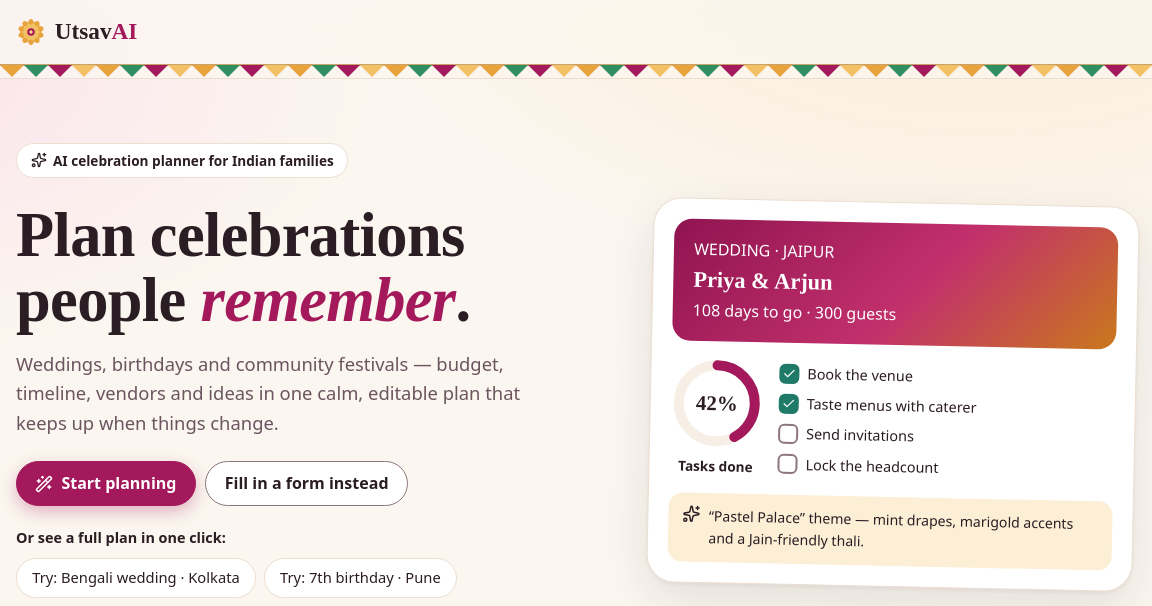
Test: venues › uses a link copied in Google Maps, and explains anything that is not a link
Click the button "Try: Bengali wedding · Kolkata": (136, 578) x1=16 y1=558 x2=256 y2=598
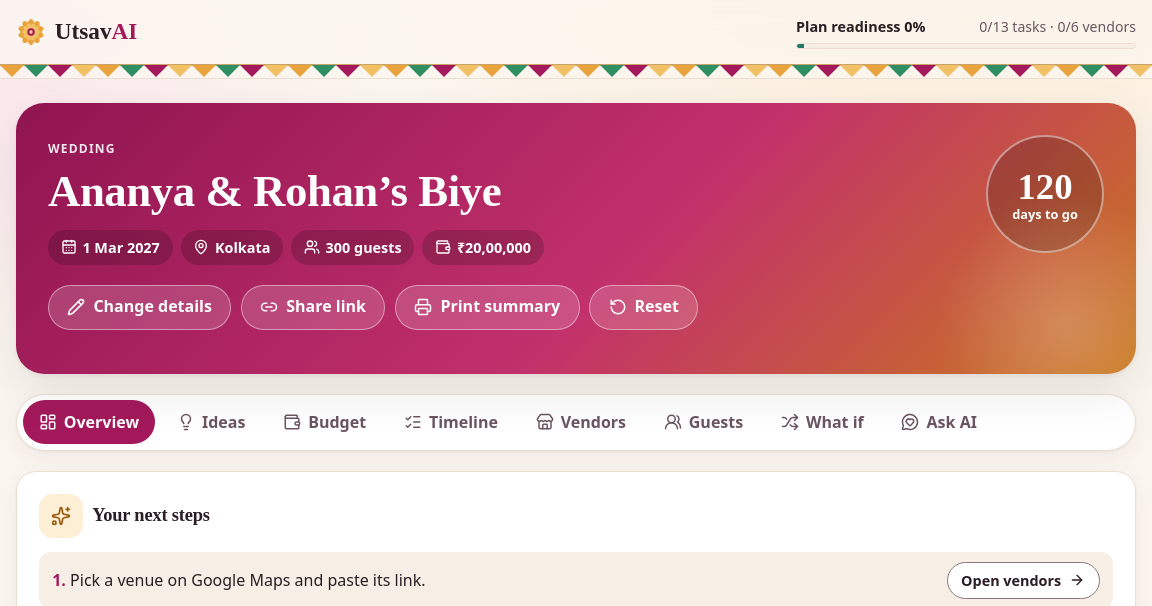
Expected: the heading "Ananya & Rohan’s Biye" is shown, x1=48 y1=165 x2=544 y2=218
Click the tab "Vendors": (581, 422) x1=520 y1=400 x2=642 y2=444
(page scrolled)
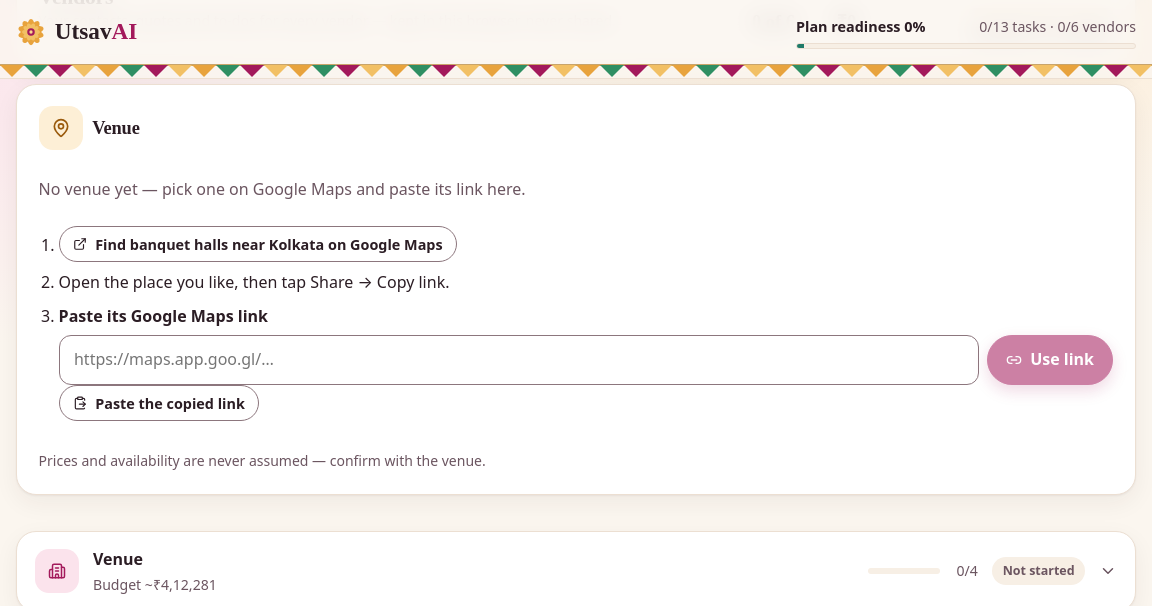
In the field labelled "Paste its Google Maps link": (519, 360) x1=59 y1=335 x2=979 y2=385, type "not a link at all"
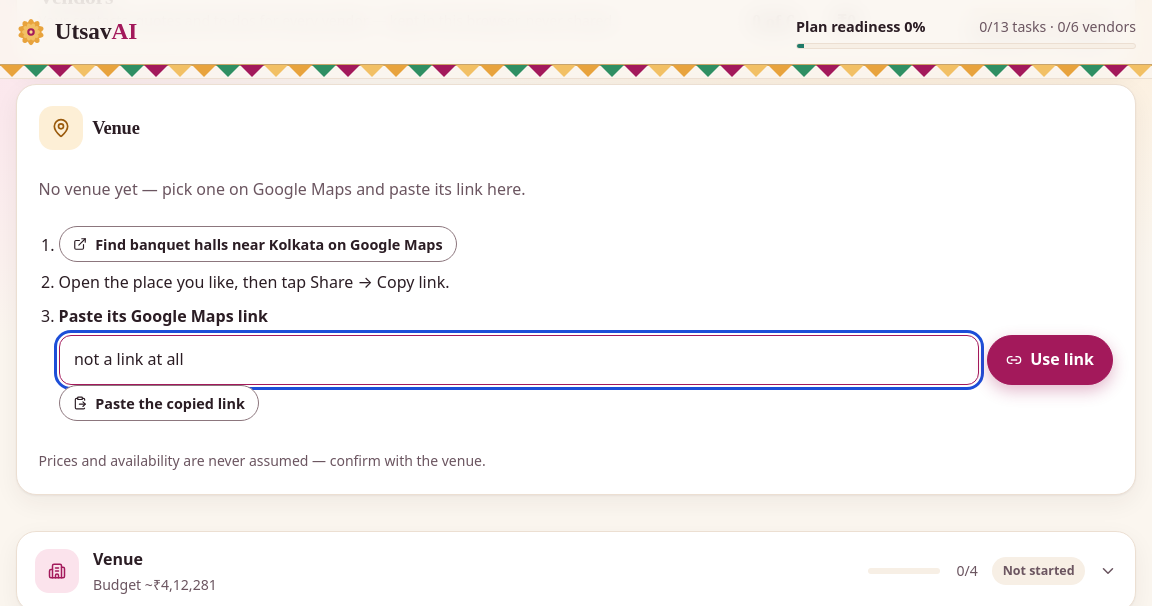
Click the button "Use link": (1050, 360) x1=987 y1=335 x2=1113 y2=385
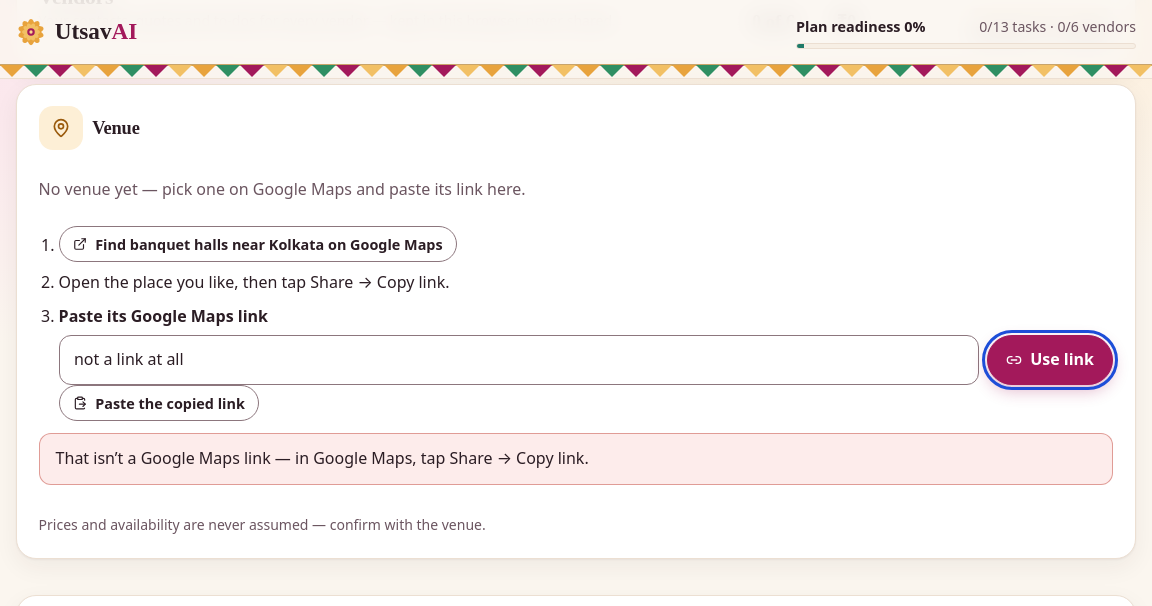
Expected: the text "isn’t a Google Maps link" is shown, x1=56 y1=447 x2=589 y2=469
Click the button "Paste the copied link": (159, 403) x1=59 y1=385 x2=259 y2=421
(page scrolled)
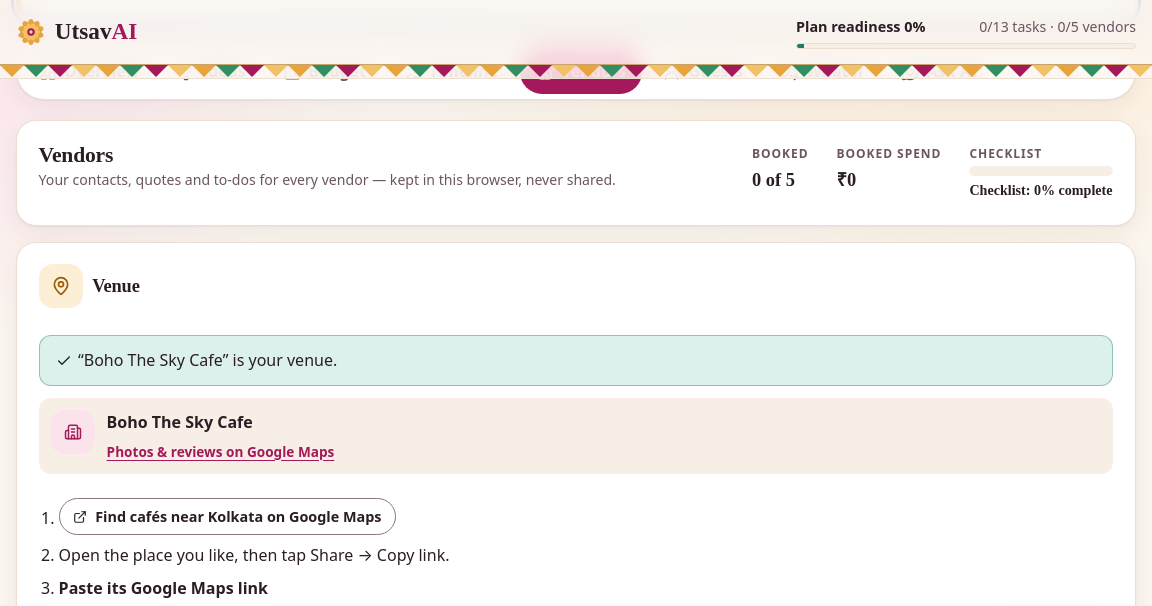
Expected: the text "“Boho The Sky Cafe” is your venue." is shown, x1=39 y1=335 x2=1113 y2=386
